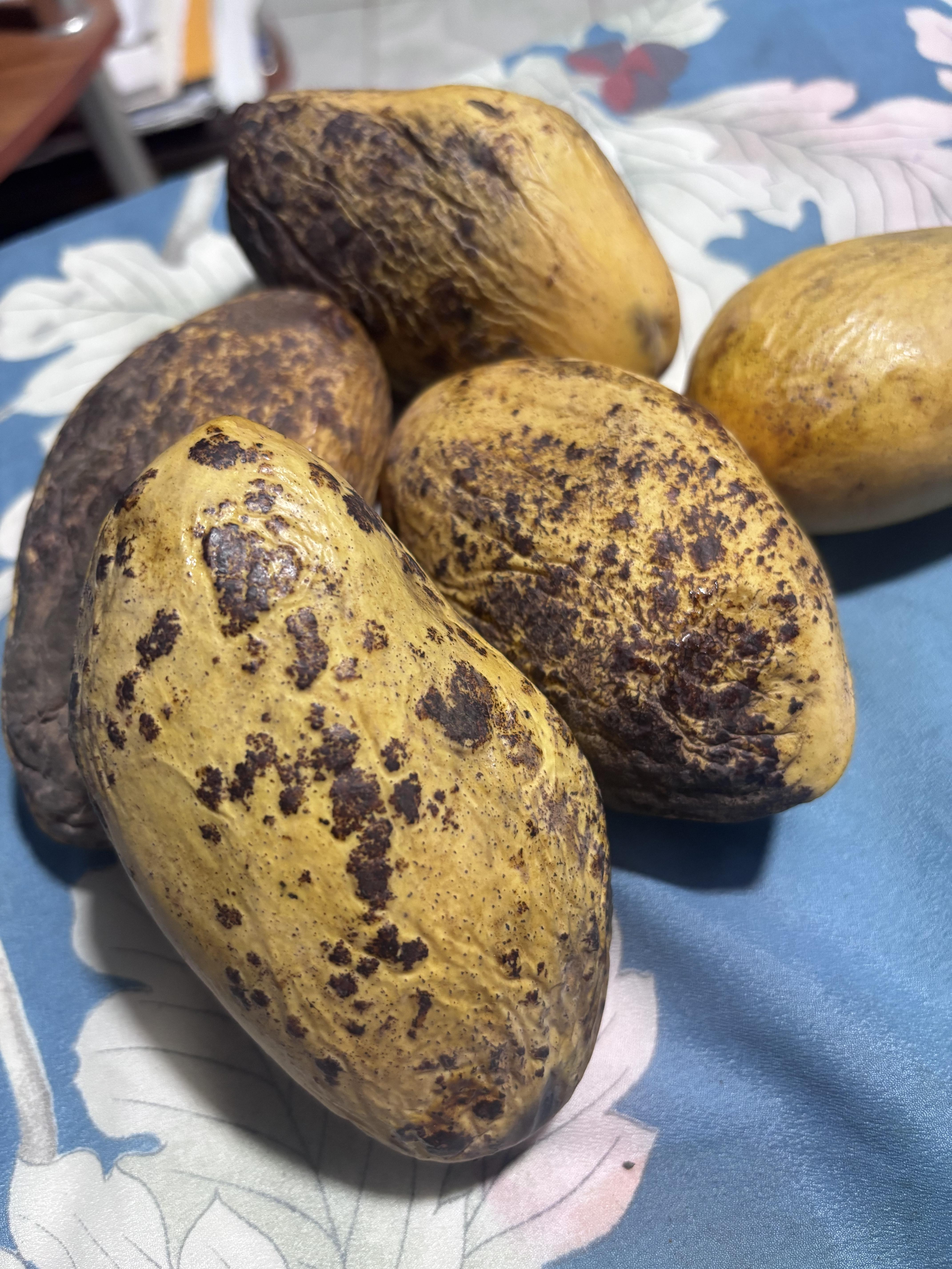mango: (70, 416, 610, 1161)
occluded: (382, 359, 854, 821), (4, 289, 391, 846), (228, 86, 679, 397), (687, 228, 952, 532)
